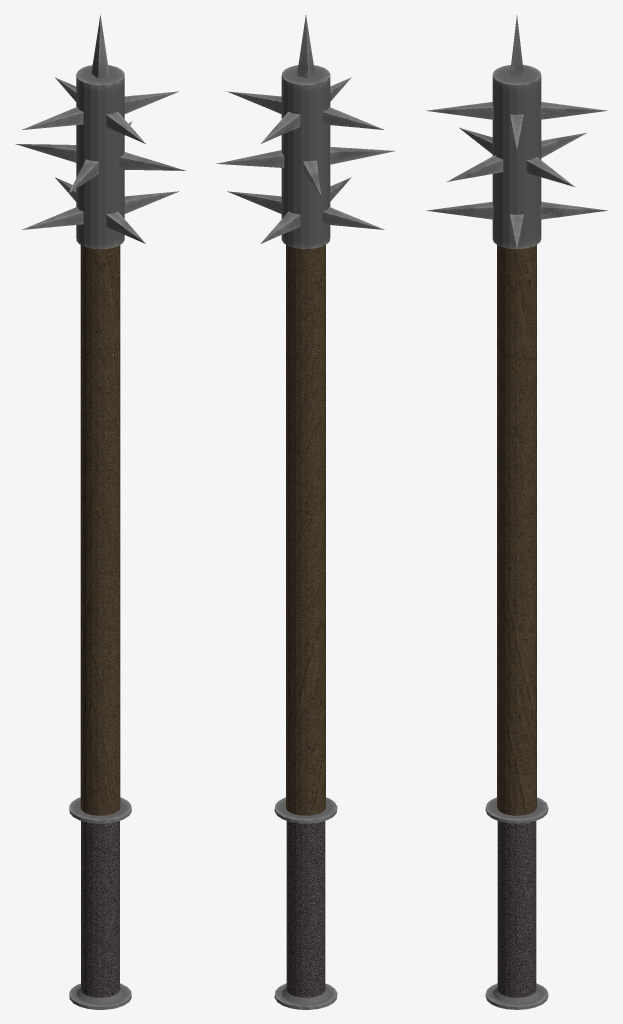
File: Morgenstern 2.fbx
3 views of the same model, side by side, from view 1: azimuth 30°, elevation 25°; view 2: azimuth 150°, elevation 25°; view 3: azimuth 270°, elevation 25° (orthographic).
Parts seen in each view (by area): view 1: handle, needle; view 2: handle, needle; view 3: handle, needle.
Part boxes in pixels (box(x1,y1,x2,y2)): handle: box(69, 65, 131, 1009); needle: box(15, 14, 185, 243); handle: box(274, 65, 337, 1009); needle: box(216, 15, 394, 243); handle: box(485, 65, 548, 1009); needle: box(426, 15, 607, 248).
Bounding box in the file's own units: 13.18 × 77.81 × 13.18.
1 material, 1 textured.
